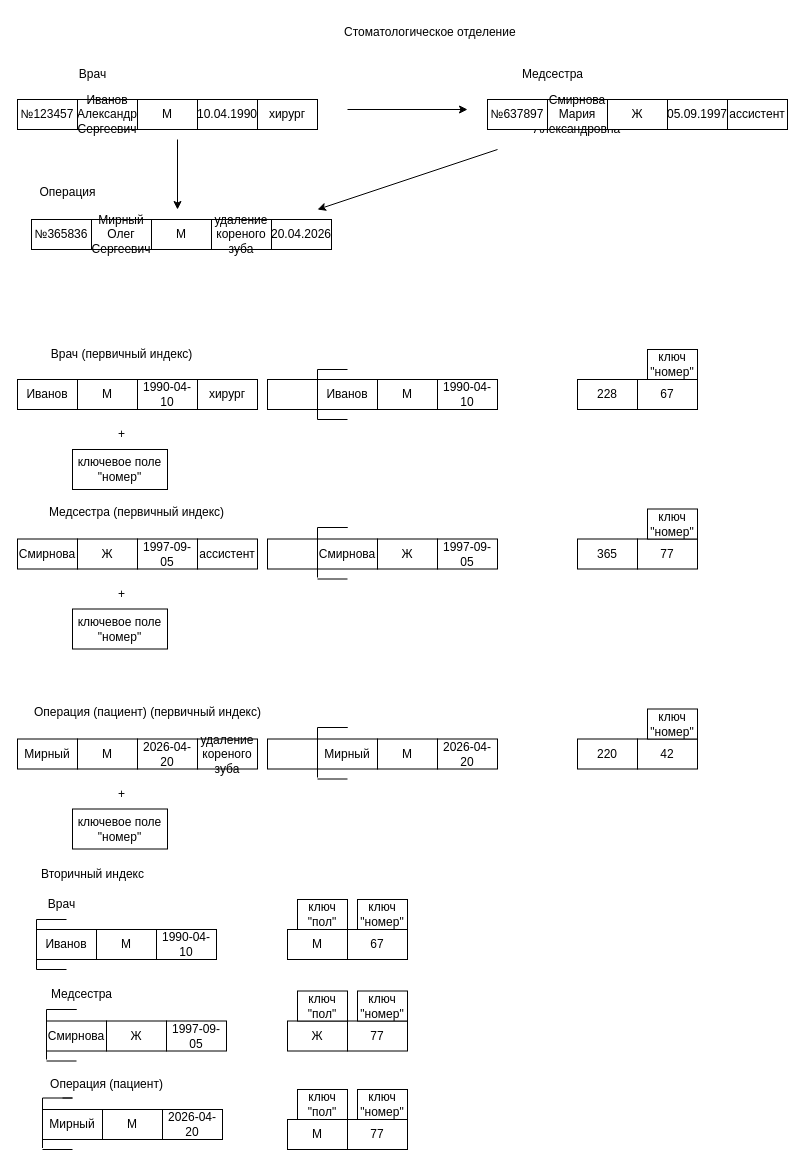
Image size: 805x1168. Some labels were removed from this diagram. The centre of each missing label's shape, as x and y in pixels:
"номер ячейки - 600" belongs at (x=292, y=753).
"номер ячейки - 700" belongs at (x=292, y=553).
"номер ячейки - 800" belongs at (x=292, y=394).
